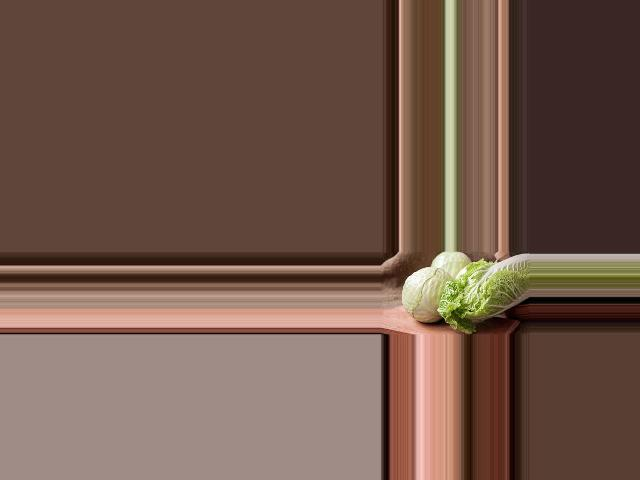lettuce: (437, 256, 528, 335)
